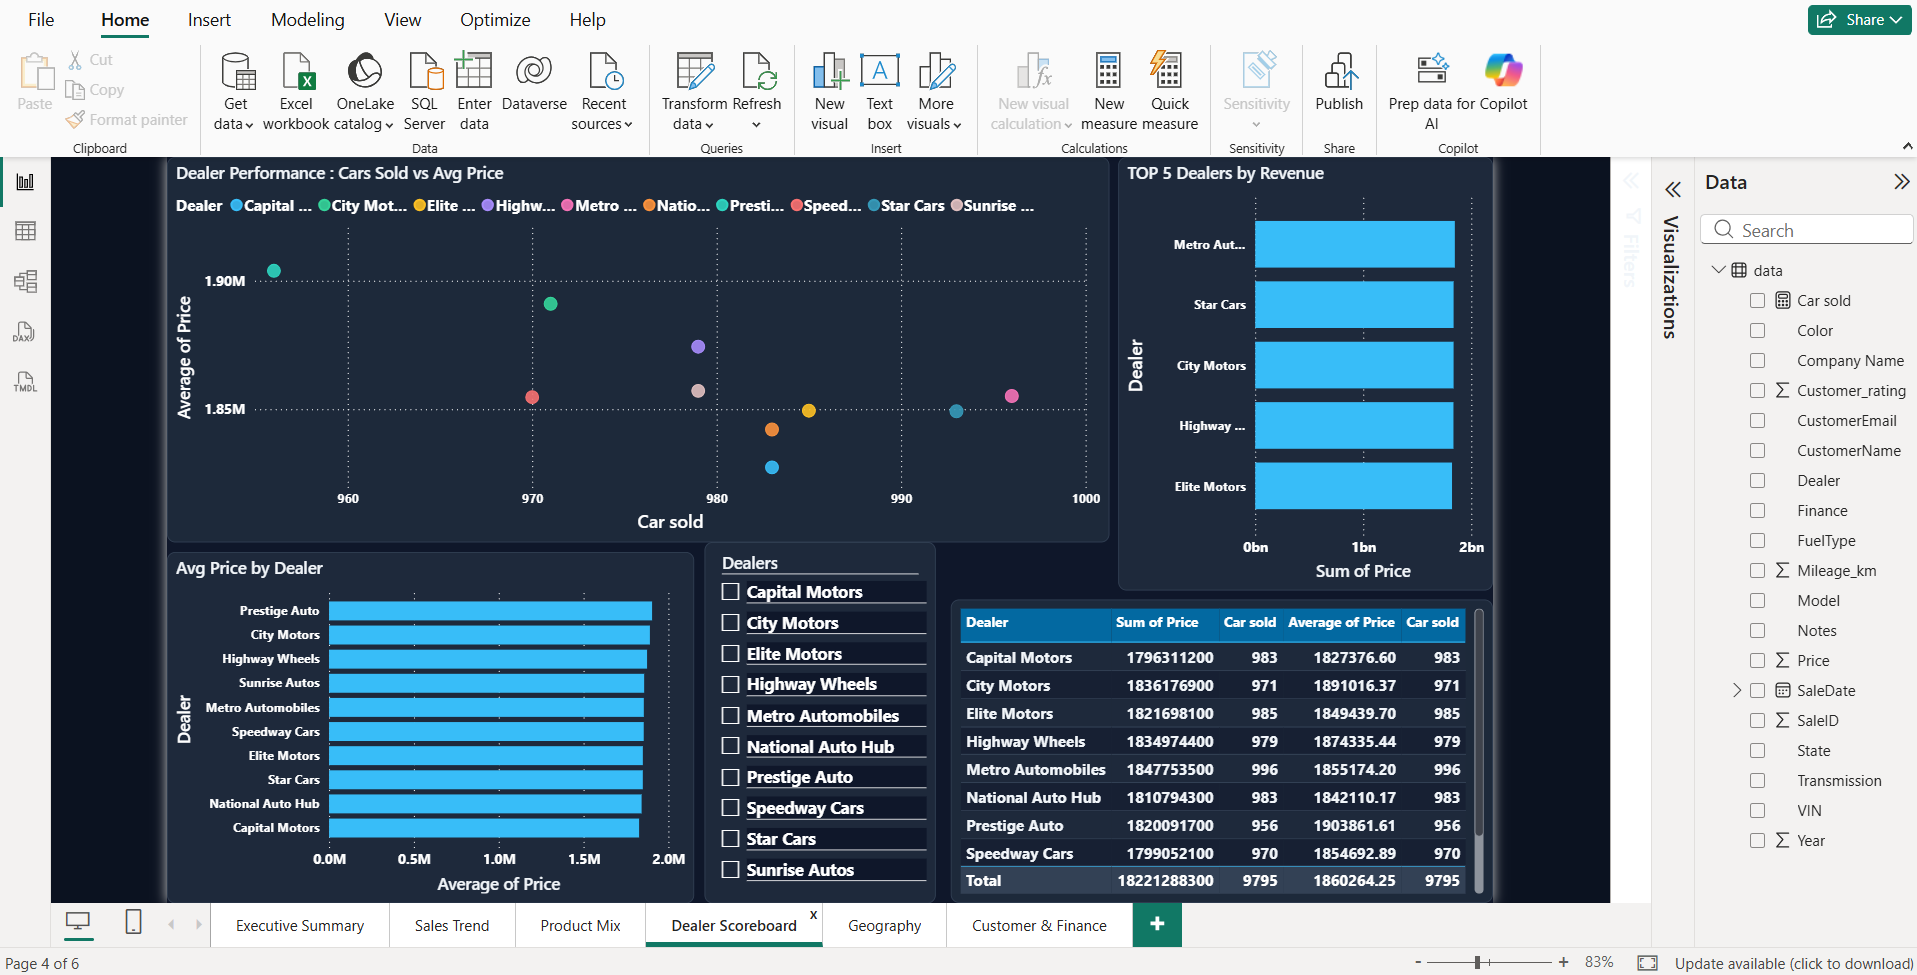

The page's visual inventory and layout, read from the dashboard file:
{"tool":"powerbi","page":{"name":"Dealer Scoreboard","canvas":[1280,720],"ordinal":3},"visuals":[{"type":"tableEx","fields":{"Values":["data.Dealer","Sum(data.Price)","data.Car sold","Avg(data.Price)","data.Car sold"]},"box":[756.4,427.1,523.6,293.2],"z":0},{"type":"barChart","title":"Avg Price by Dealer","fields":{"Category":["data.Dealer"],"Y":["Avg(data.Price)"]},"box":[0,381.2,509.1,339],"z":1000},{"type":"barChart","title":"TOP 5 Dealers by Revenue","fields":{"Category":["data.Dealer"],"Y":["Sum(data.Price)"]},"box":[918.1,0,361.9,418.6],"z":2000},{"type":"scatterChart","title":"Dealer Performance : Cars Sold vs Avg Price","fields":{"X":["data.Car sold"],"Y":["Avg(data.Price)"],"Size":["Sum(data.Price)1"],"Series":["data.Dealer"]},"box":[0,0,909.8,371.7],"z":3000},{"type":"slicer","fields":{"Values":["data.Dealer"]},"box":[518.8,371.6,223.2,348.7],"z":4000}]}

Visuals, with their boxes on the page's 1280x720 design canvas (x1, y1, x2, y2). These are canvas units, not pixel positions in the 1917x975 screenshot, which may show the page scaled, cropped or inside an application window:
tableEx - data.Dealer x Sum(data.Price): (756,427,1280,720)
"Avg Price by Dealer" barChart: (0,381,509,720)
"TOP 5 Dealers by Revenue" barChart: (918,0,1280,419)
"Dealer Performance : Cars Sold vs Avg Price" scatterChart: (0,0,910,372)
slicer - data.Dealer: (519,372,742,720)
